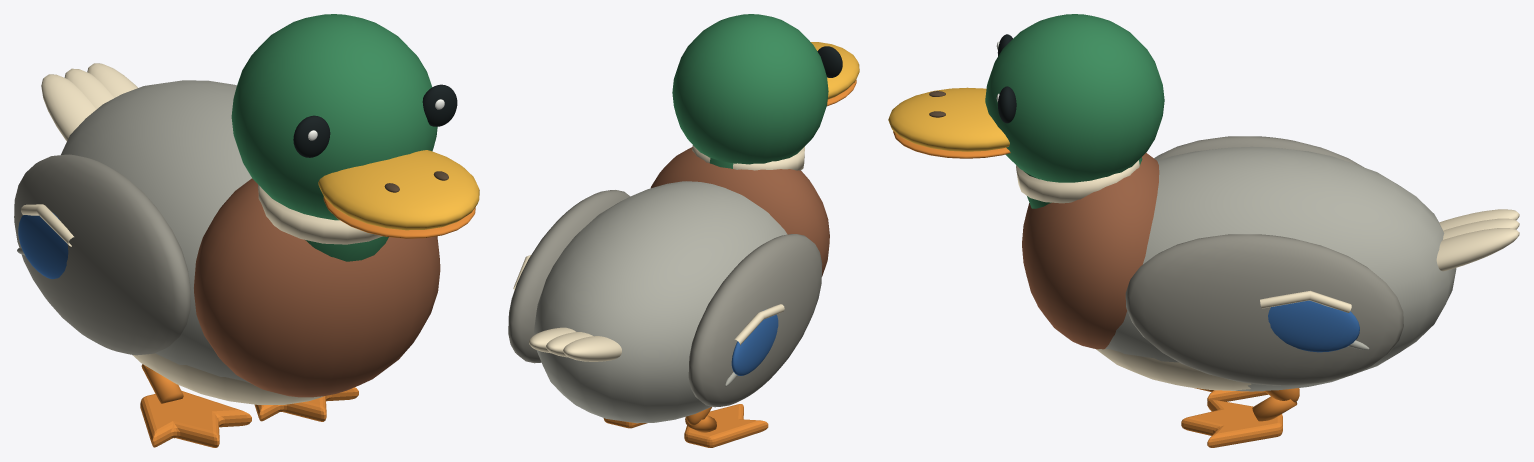
File: eend_zwemmend.glb
3 views of the same model, side by side, from view 1: azimuth 30°, elevation 25°; view 2: azimuth 150°, elevation 25°; view 3: azimuth 270°, elevation 25° (orthographic). The views are drawn at different scales.
Parts seen in each view (by area): view 1: Duck_brown_chest.001, Duck_round_head.001, Duck_folded_wing.002, Duck_body.001, Duck_flat_bill.001, Duck_webbed_foot.002, Duck_cream_belly.001, Duck_white_neck_ring.001, Duck_blue_wing_panel.002, Duck_tail_feather.003, Duck_bill_lower.001, Duck_webbed_foot.003 (+7 smaller); view 2: Duck_body.001, Duck_round_head.001, Duck_folded_wing.002, Duck_brown_chest.001, Duck_folded_wing.003, Duck_webbed_foot.002, Duck_blue_wing_panel.002, Duck_tail_feather.003, Duck_flat_bill.001, Duck_white_neck_ring.001, Eye.018, Duck_tail_feather.005 (+2 smaller); view 3: Duck_body.001, Duck_folded_wing.003, Duck_round_head.001, Duck_brown_chest.001, Duck_flat_bill.001, Duck_blue_wing_panel.003, Duck_webbed_foot.003, Duck_cream_belly.001, Duck_tail_feather.005, Duck_white_neck_ring.001, Duck_folded_wing.002, Duck_white_wing_edge.003 (+4 smaller).
Part boxes in pixels (<box>): Duck_brown_chest.001: <box>194,178,440,397</box>; Duck_round_head.001: <box>231,14,437,218</box>; Duck_folded_wing.002: <box>14,154,190,355</box>; Duck_body.001: <box>61,80,251,383</box>; Duck_flat_bill.001: <box>318,150,479,230</box>; Duck_webbed_foot.002: <box>140,390,251,447</box>; Duck_cream_belly.001: <box>133,353,323,404</box>; Duck_white_neck_ring.001: <box>258,184,382,244</box>; Duck_blue_wing_panel.002: <box>18,212,68,279</box>; Duck_tail_feather.003: <box>41,74,96,141</box>; Duck_bill_lower.001: <box>323,197,475,238</box>; Duck_webbed_foot.003: <box>254,387,358,421</box>; Duck_body.001: <box>534,181,787,423</box>; Duck_round_head.001: <box>672,14,828,164</box>; Duck_folded_wing.002: <box>688,234,822,407</box>; Duck_brown_chest.001: <box>650,147,829,276</box>; Duck_folded_wing.003: <box>508,190,630,363</box>; Duck_webbed_foot.002: <box>684,404,768,447</box>; Duck_blue_wing_panel.002: <box>731,310,778,375</box>; Duck_tail_feather.003: <box>563,336,621,361</box>; Duck_flat_bill.001: <box>811,42,859,99</box>; Duck_white_neck_ring.001: <box>692,145,804,170</box>; Eye.018: <box>817,46,842,77</box>; Duck_tail_feather.005: <box>529,327,575,353</box>; Duck_body.001: <box>1105,146,1456,391</box>; Duck_folded_wing.003: <box>1125,234,1403,385</box>; Duck_round_head.001: <box>985,14,1164,182</box>; Duck_brown_chest.001: <box>1022,152,1159,349</box>; Duck_flat_bill.001: <box>888,87,1009,151</box>; Duck_blue_wing_panel.003: <box>1268,300,1359,352</box>; Duck_webbed_foot.003: <box>1181,399,1282,447</box>; Duck_cream_belly.001: <box>1096,348,1251,390</box>; Duck_tail_feather.005: <box>1436,228,1519,271</box>; Duck_white_neck_ring.001: <box>1016,160,1139,203</box>; Duck_folded_wing.002: <box>1154,136,1363,167</box>; Duck_white_wing_edge.003: <box>1260,290,1351,312</box>.
Bounding box in the file's own units: 0.504 × 0.699 × 1.03.
